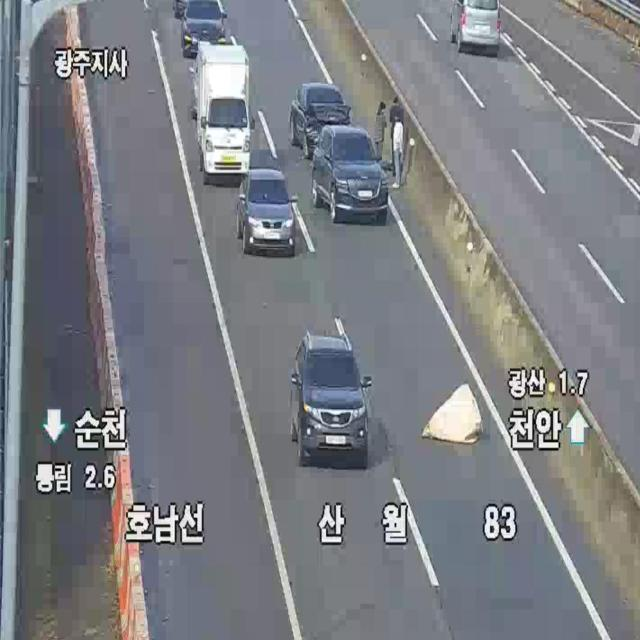car Accident: (284, 37, 392, 238)
